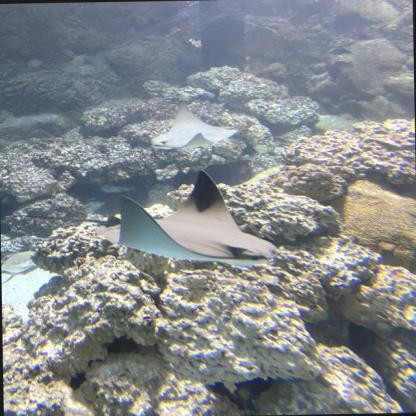fish: (2, 249, 46, 286)
stingray: (93, 164, 290, 270), (144, 98, 238, 154)
